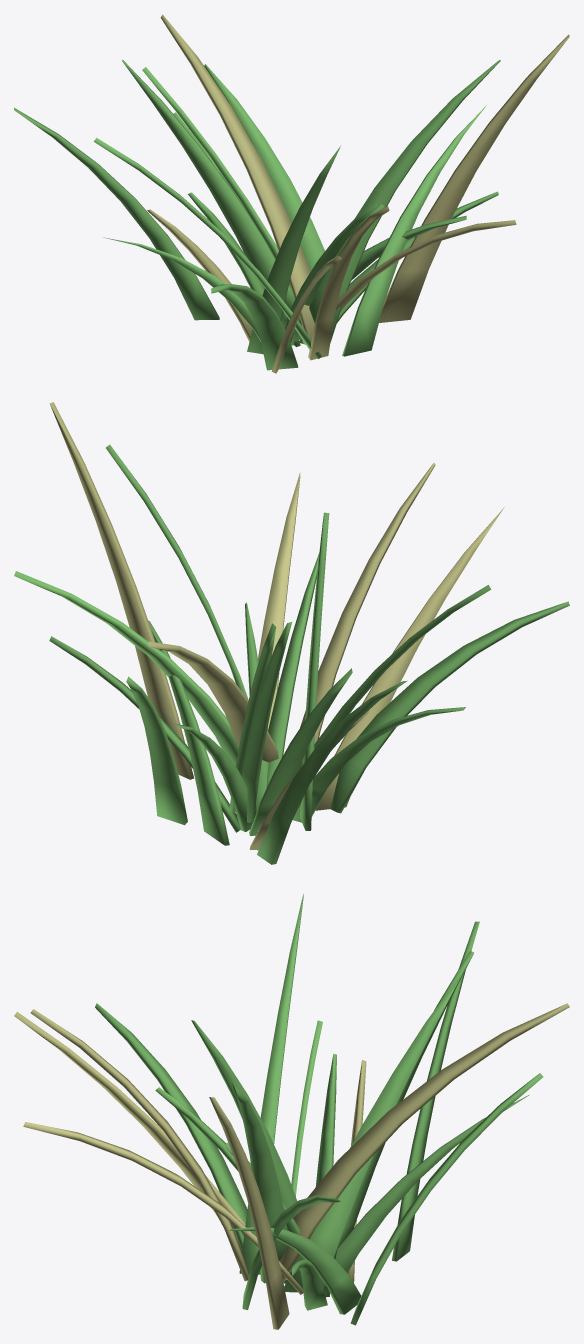
File: tuft_2.glb
The picture shows the model from 3 angles, top to bottom: view 1: azimuth 30°, elevation 25°; view 2: azimuth 150°, elevation 25°; view 3: azimuth 270°, elevation 25°; orthographic projection. The views are drawn at different scales.
Visible parts, largest first — view 1: tuft; view 2: tuft; view 3: tuft.
Part boxes in pixels (x1,y1,x2,y2): tuft: [14, 14, 569, 373]; tuft: [14, 402, 569, 864]; tuft: [14, 894, 569, 1329].
Size of the model in its own units: 0.6025 by 0.3872 by 0.5966.
